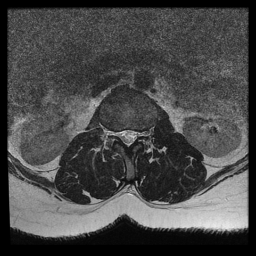CCS_normal: (124, 122, 131, 152)
LFS_stenosis: (137, 122, 144, 143)
LLS_normal: (130, 121, 137, 147)
RFS_stenosis: (111, 123, 118, 144)
RLS_normal: (118, 123, 124, 146)
